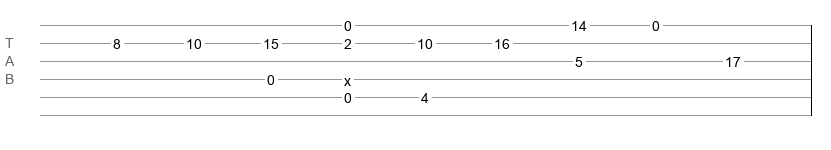0: (267, 72, 275, 82), (344, 90, 352, 100), (344, 18, 352, 28), (652, 18, 660, 28)
10: (186, 36, 202, 46), (417, 36, 433, 46)
14: (571, 18, 587, 28)
15: (263, 36, 279, 46)
16: (494, 36, 510, 46)
17: (725, 54, 741, 64)
2: (344, 36, 352, 46)
4: (421, 90, 429, 100)
5: (575, 54, 583, 64)
8: (113, 36, 121, 46)
x: (344, 73, 351, 81)
